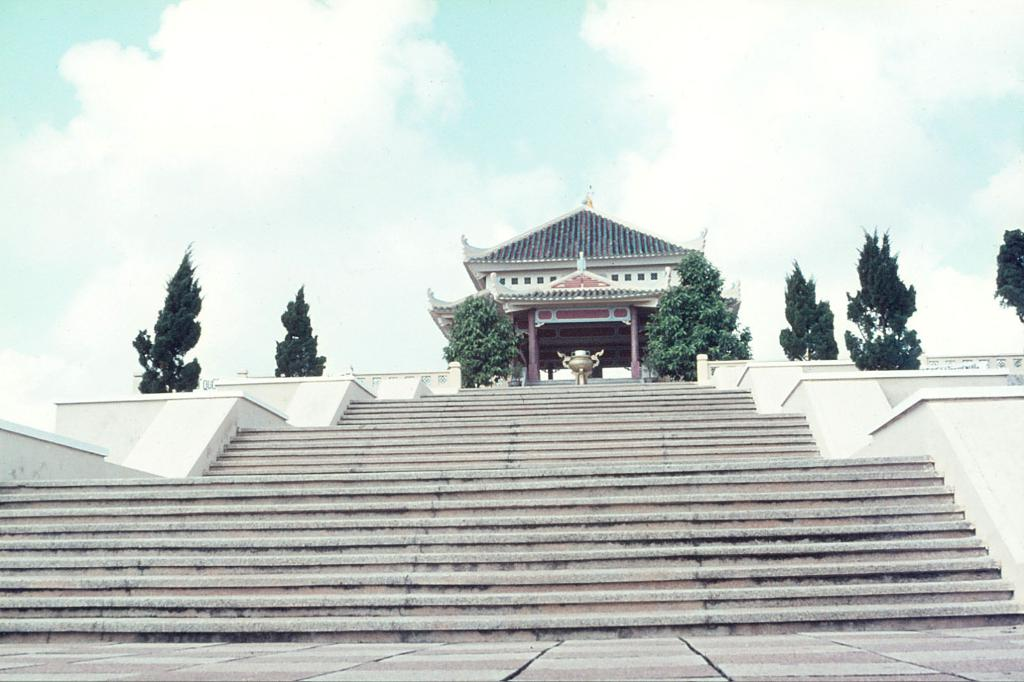Tree: (645, 245, 751, 377), (837, 226, 927, 371), (130, 242, 196, 390), (439, 294, 526, 383), (777, 257, 844, 368), (268, 288, 323, 377), (991, 226, 1023, 325)
